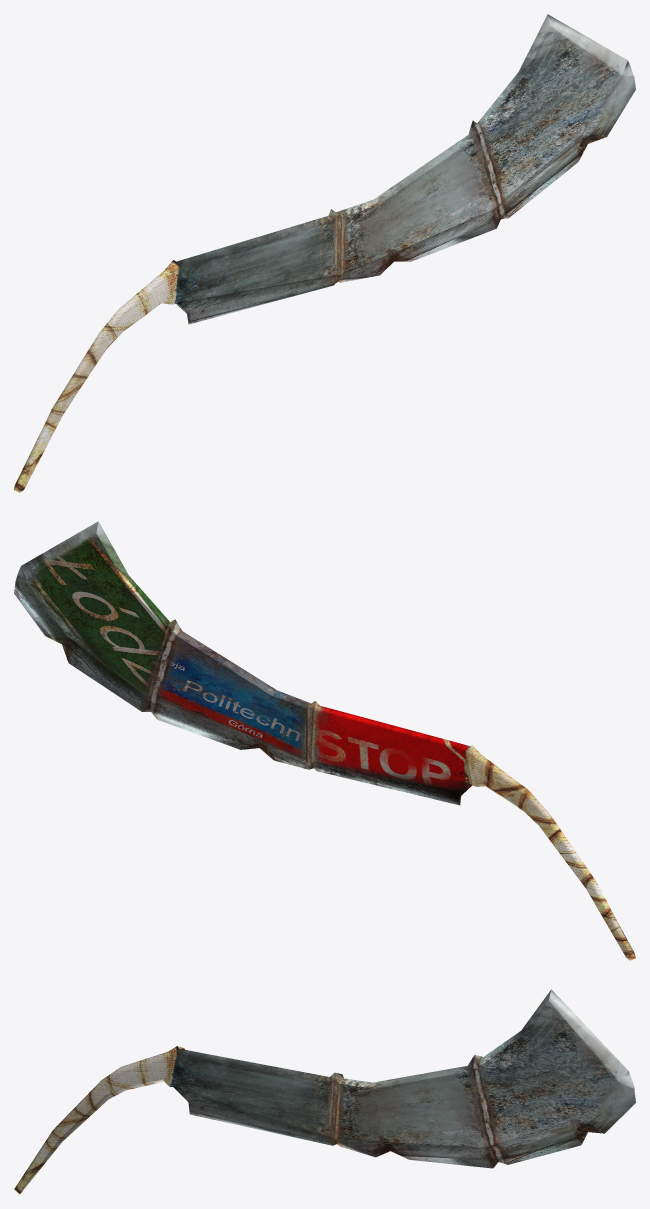
Rendered from Machete.FBX.
3 views of the same model, one above another, from view 1: azimuth 30°, elevation 25°; view 2: azimuth 150°, elevation 25°; view 3: azimuth 330°, elevation 25° (orthographic). The views are drawn at different scales.
Visible parts, largest first — view 1: machete; view 2: machete; view 3: machete.
Boxes of the visible parts, <box> form: machete: <box>14,14,635,492</box>; machete: <box>14,521,635,960</box>; machete: <box>14,989,635,1194</box>.
Size of the model in its own units: 7.84 by 3.97 by 0.4107.
Materials: 1 (1 with a texture image).
